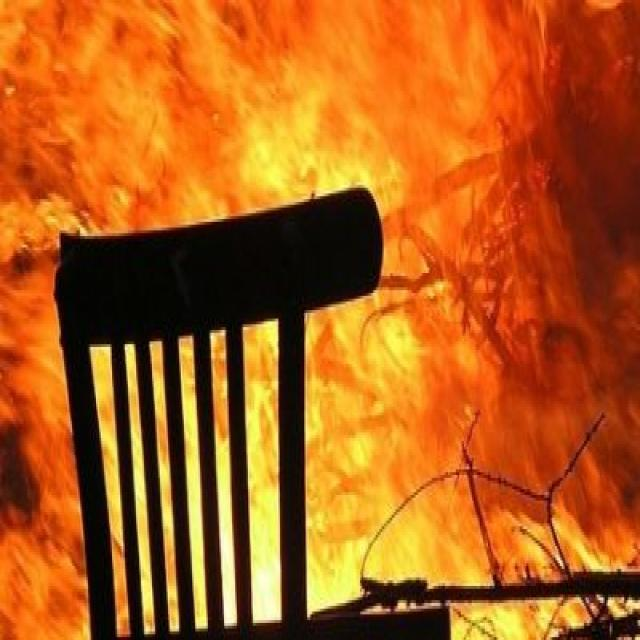Fire: (0, 3, 640, 640), (99, 348, 281, 618)
